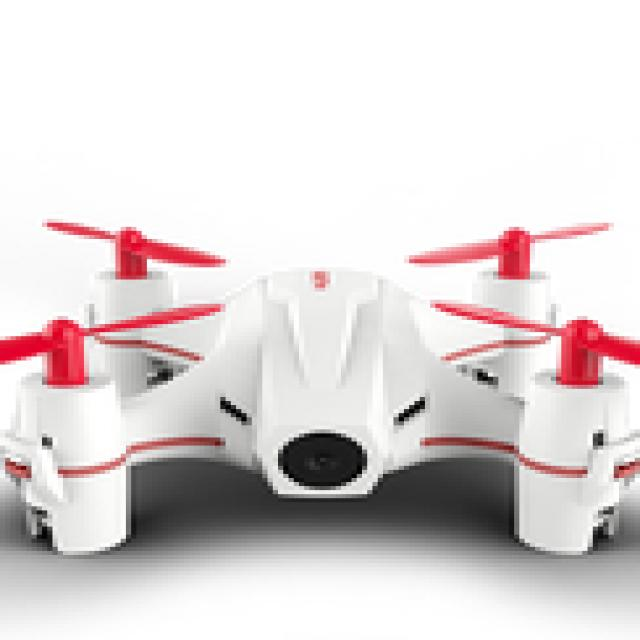drone: (0, 207, 640, 579)
